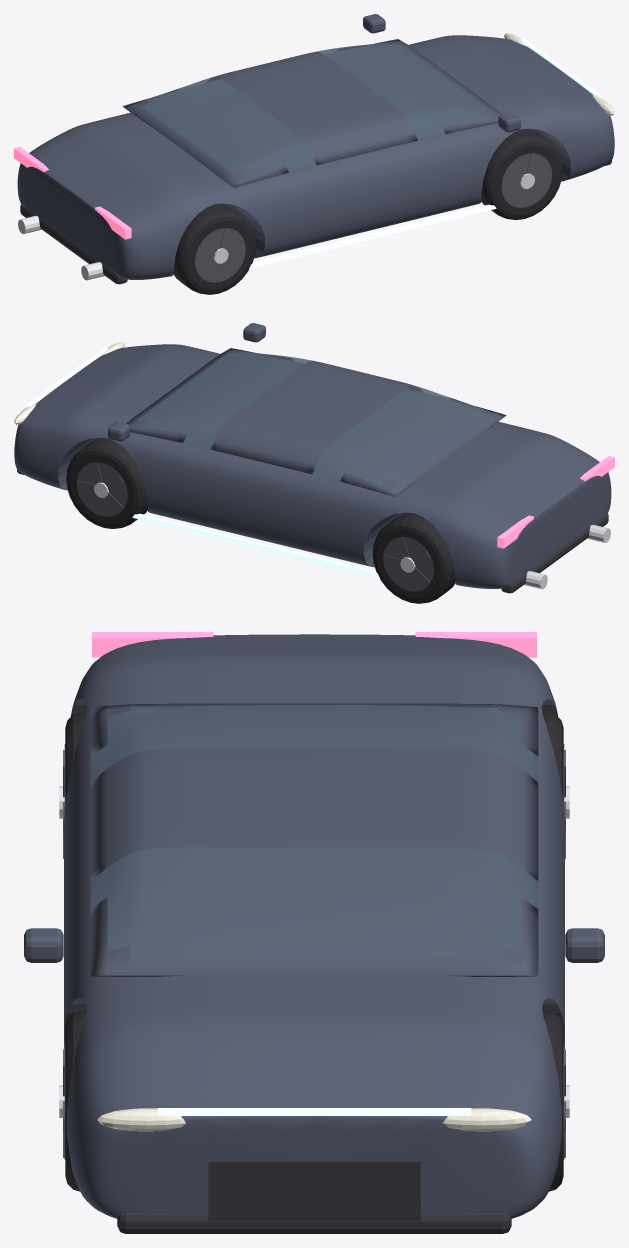
Rendered from neon_specter.fbx.
The picture shows the model from 3 angles, top to bottom: view 1: azimuth 30°, elevation 25°; view 2: azimuth 150°, elevation 25°; view 3: azimuth 270°, elevation 25°; orthographic projection. The views are drawn at different scales.
Visible parts, largest first — view 1: Body.016, Glass.016, Tire.016, Rim.016, Neon.005, Chrome.016, Trim.016, TailLight.016; view 2: Body.016, Glass.016, Tire.016, Rim.016, Neon.005, Chrome.016, Trim.016, TailLight.016; view 3: Body.016, Glass.016, Trim.016, Tire.016, HeadLight.016, TailLight.016, Neon.005, Rim.016.
Part boxes in pixels (<box>): Body.016: <box>17,14,614,279</box>; Glass.016: <box>141,42,490,176</box>; Tire.016: <box>173,129,562,294</box>; Rim.016: <box>195,153,552,282</box>; Neon.005: <box>249,38,602,268</box>; Chrome.016: <box>18,173,534,280</box>; Trim.016: <box>20,160,611,284</box>; TailLight.016: <box>14,147,131,239</box>; Body.016: <box>14,323,611,588</box>; Glass.016: <box>138,351,487,485</box>; Tire.016: <box>66,438,455,603</box>; Rim.016: <box>76,462,433,591</box>; Neon.005: <box>26,347,379,577</box>; Chrome.016: <box>94,482,610,589</box>; Trim.016: <box>17,469,608,593</box>; TailLight.016: <box>497,456,614,548</box>; Body.016: <box>24,634,604,1218</box>; Glass.016: <box>90,705,538,958</box>; Trim.016: <box>117,1158,511,1233</box>; Tire.016: <box>65,712,563,1191</box>; HeadLight.016: <box>97,1108,531,1131</box>; TailLight.016: <box>92,632,536,657</box>; Neon.005: <box>157,1108,471,1115</box>; Rim.016: <box>63,744,565,1159</box>.
Size of the model in its own units: 1641 by 363 by 804.
